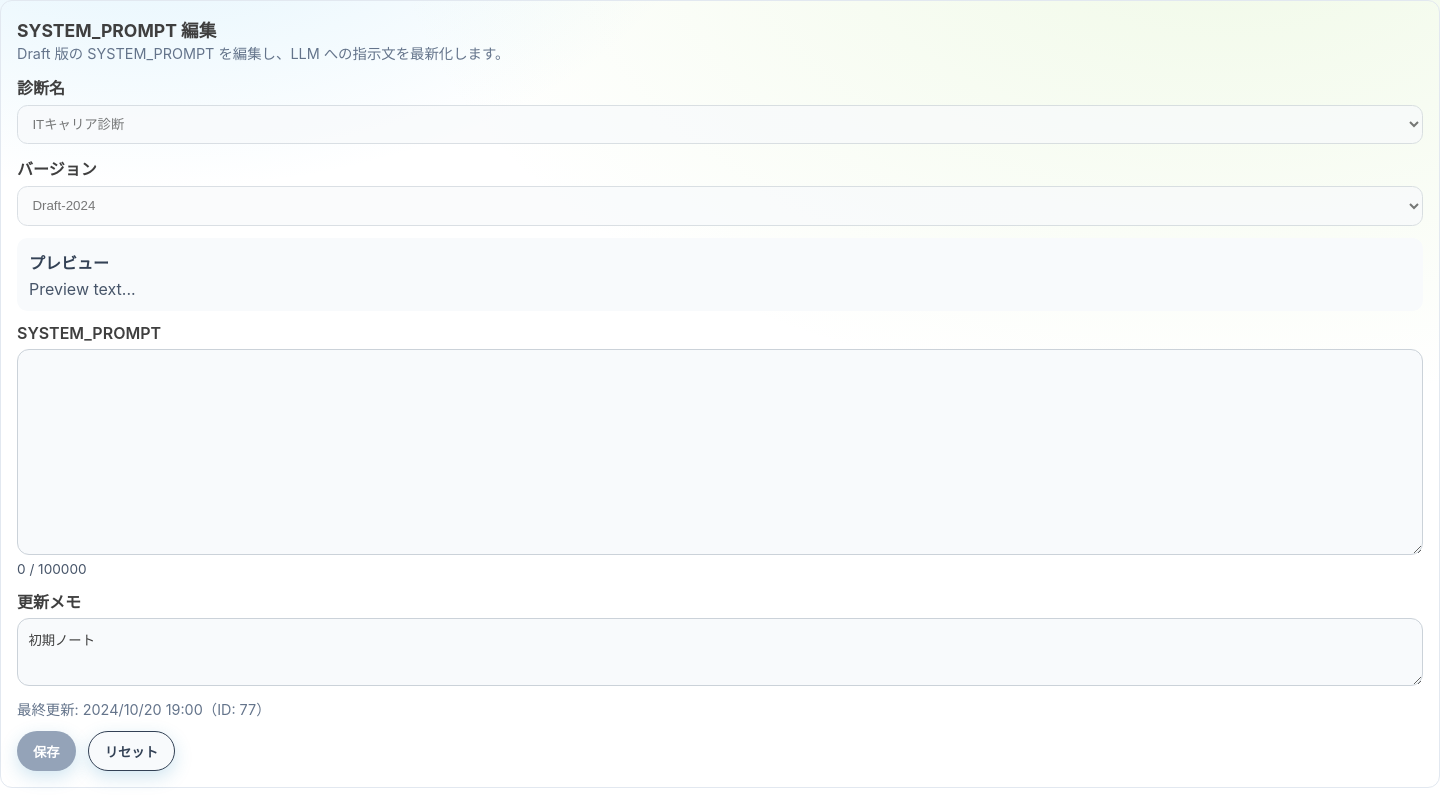
SystemPromptCard › resets prompt and note to the fetched values
Type "Temporary change" into the text box labelled "SYSTEM_PROMPT" at (720, 452), box [17,349,1423,555]
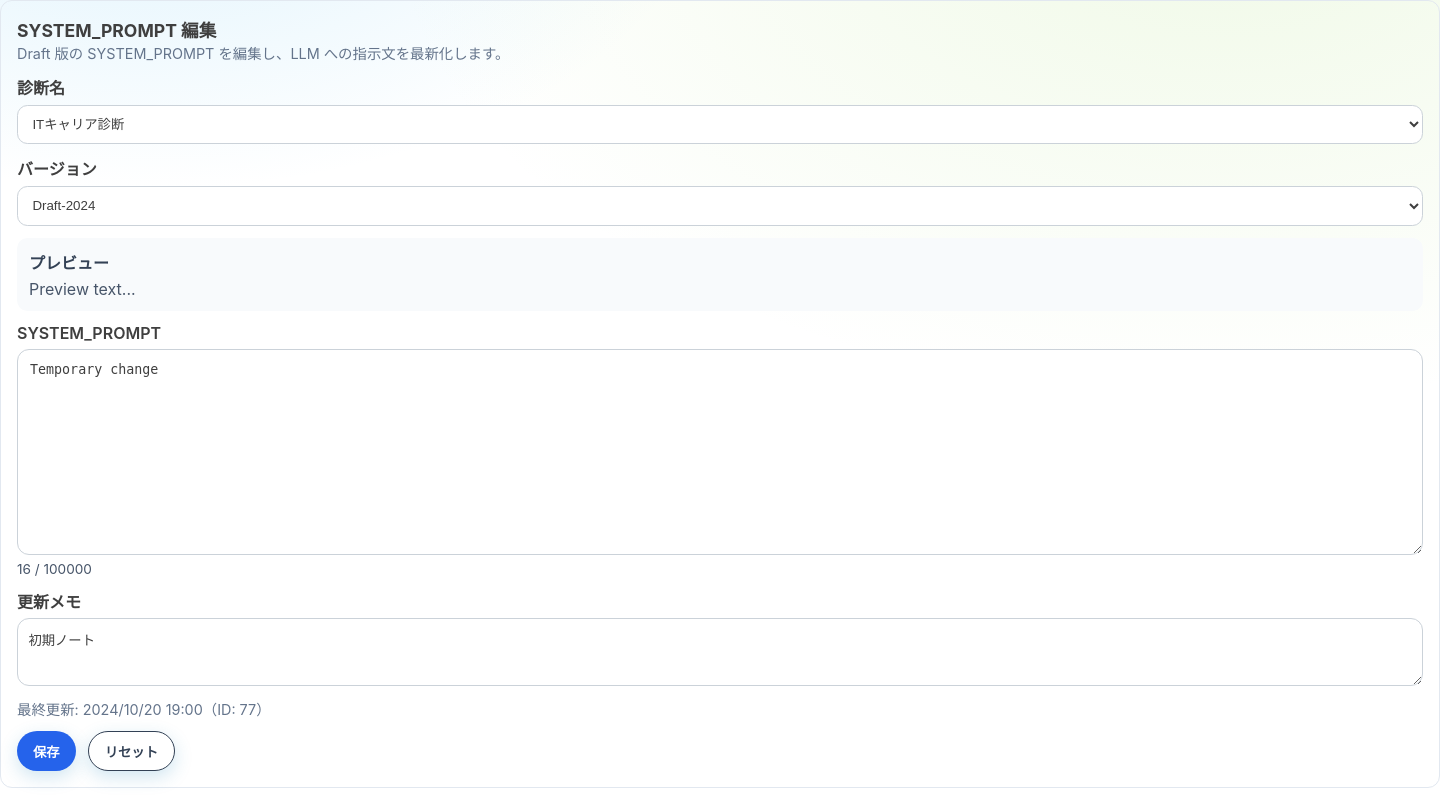
Replace the text in the text box labelled "更新メモ" with "Another note" at (720, 652), box [17,618,1423,686]
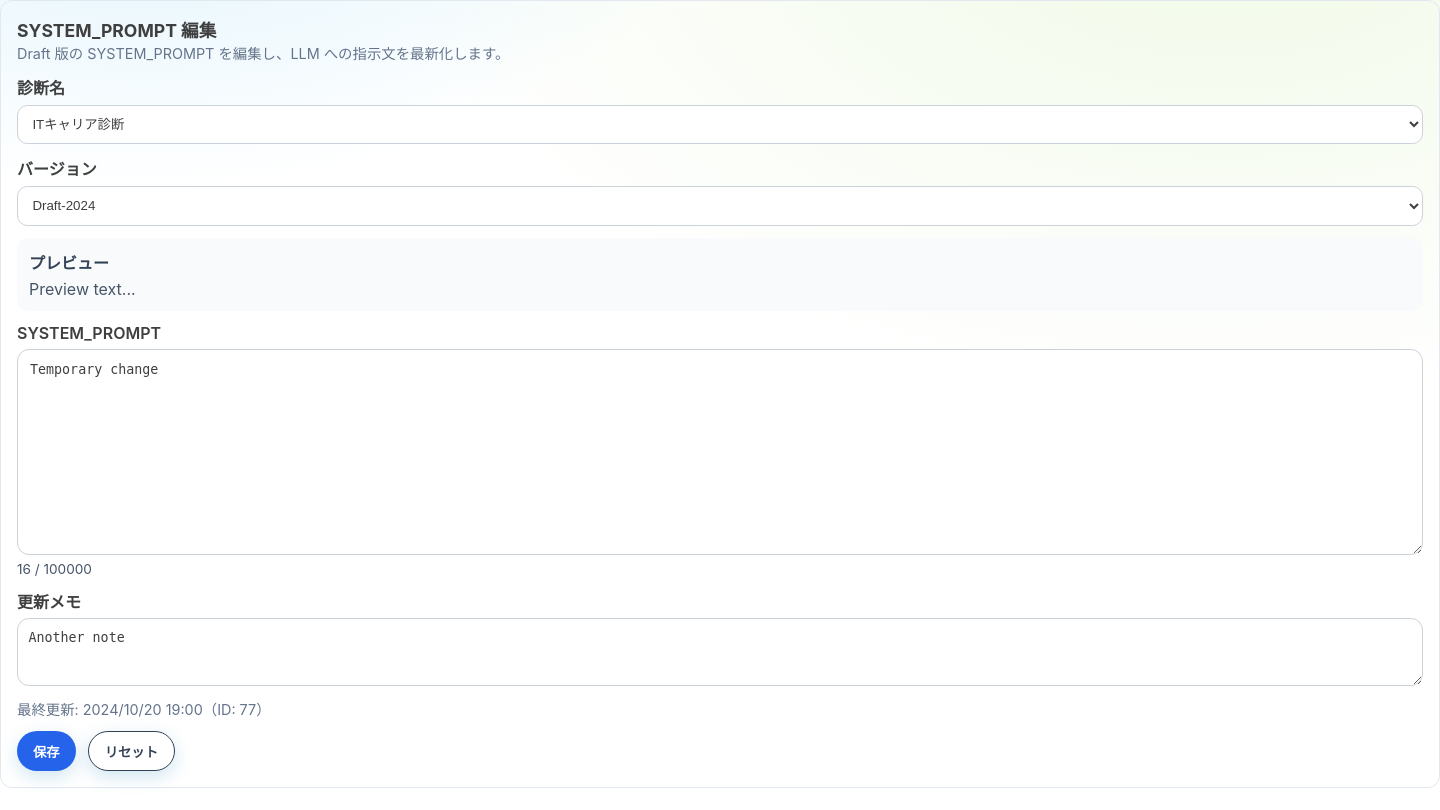
Click the button "リセット" at (131, 751), box [88,731,175,771]
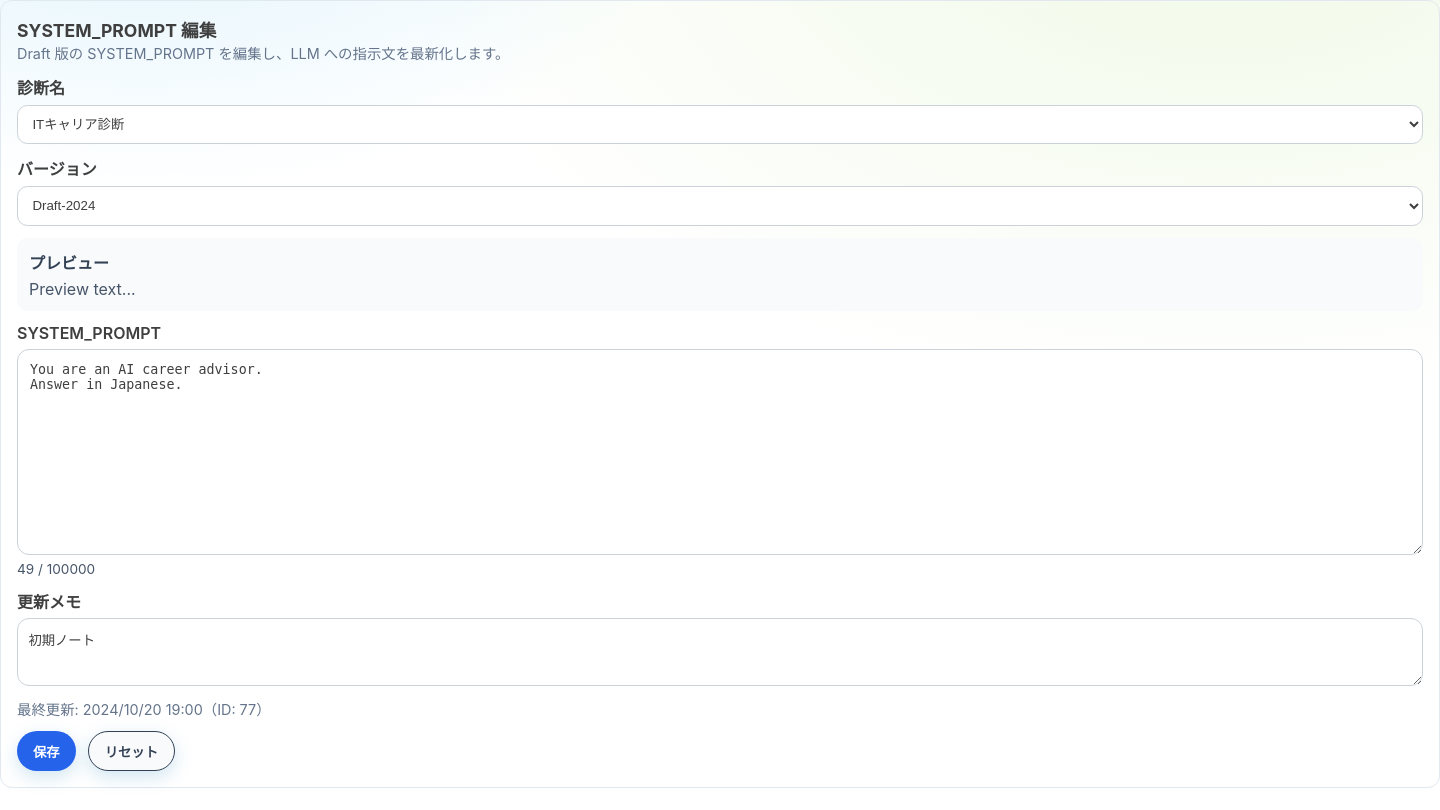
Check: the text box labelled "更新メモ" holds "初期ノート", box [17,618,1423,686]
